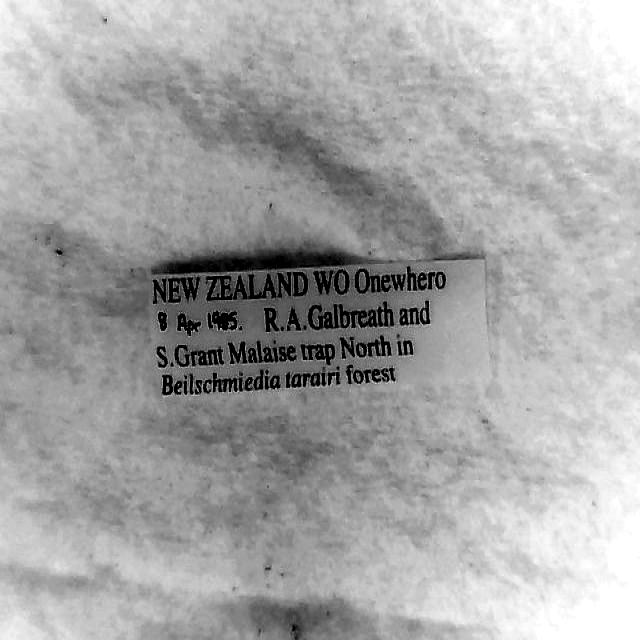mixed_label: (150, 260, 488, 398)
